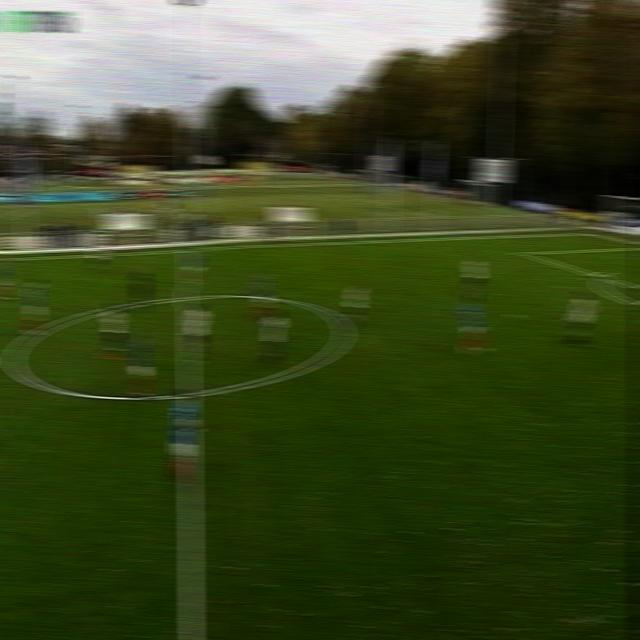bigarea_top_inner: (514, 246, 531, 262)
corner: (580, 230, 596, 238)
halfcircle_top: (178, 290, 196, 306)
midline_top_intersection: (180, 244, 195, 257)
top_arc_area_intersection: (593, 272, 612, 284)
